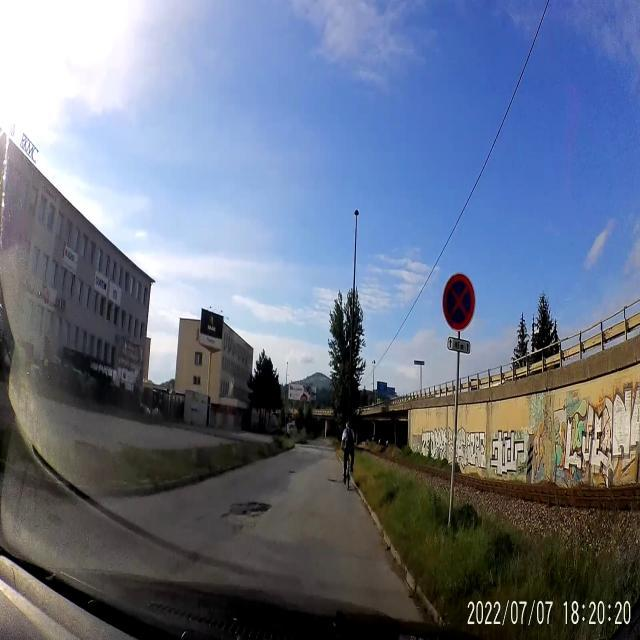Pothole: (221, 497, 269, 525), (286, 466, 298, 476)
